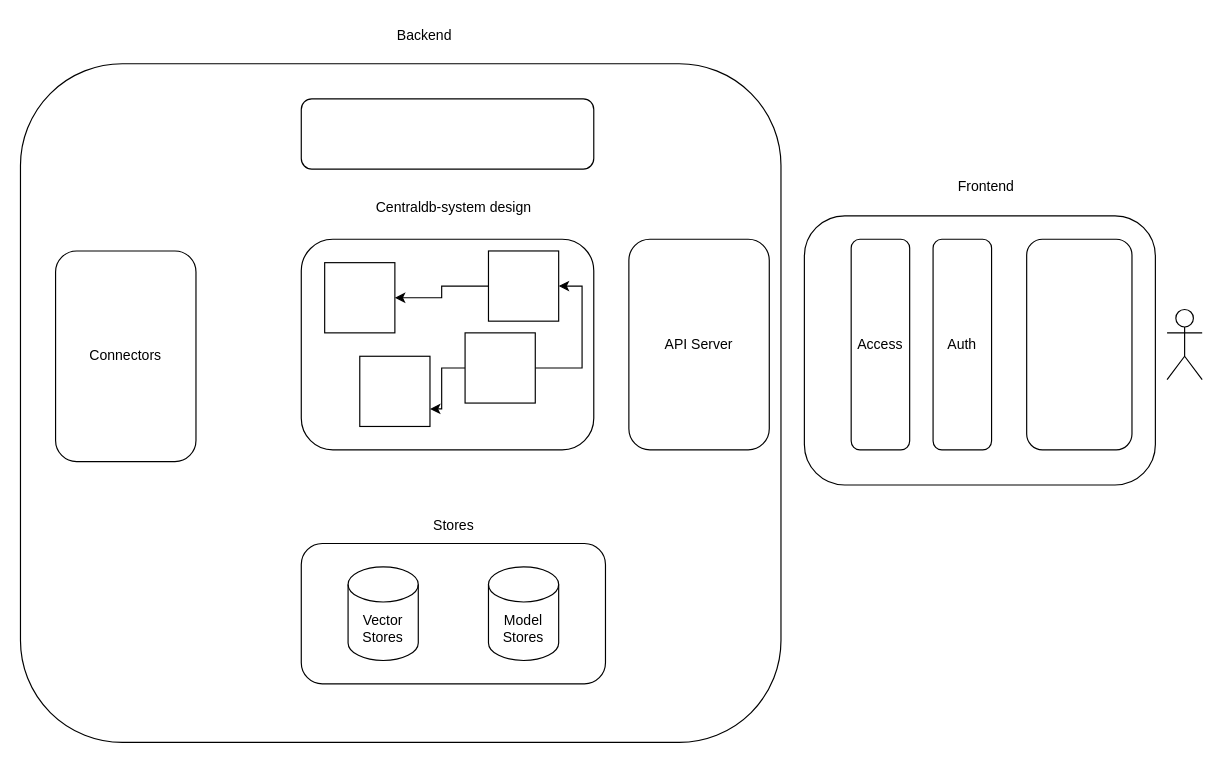
This 1223x763 diagram has some shape labels left out. Each missing label, with the box of its shape:
Actor: (1166, 308, 1202, 380)
Chat and Search: (1026, 238, 1132, 450)
Prompts: (300, 98, 594, 169)
